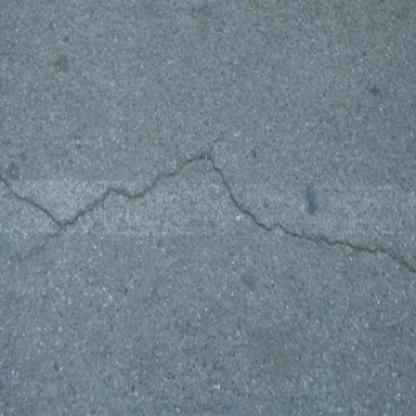Cracks: (2, 141, 415, 280)
